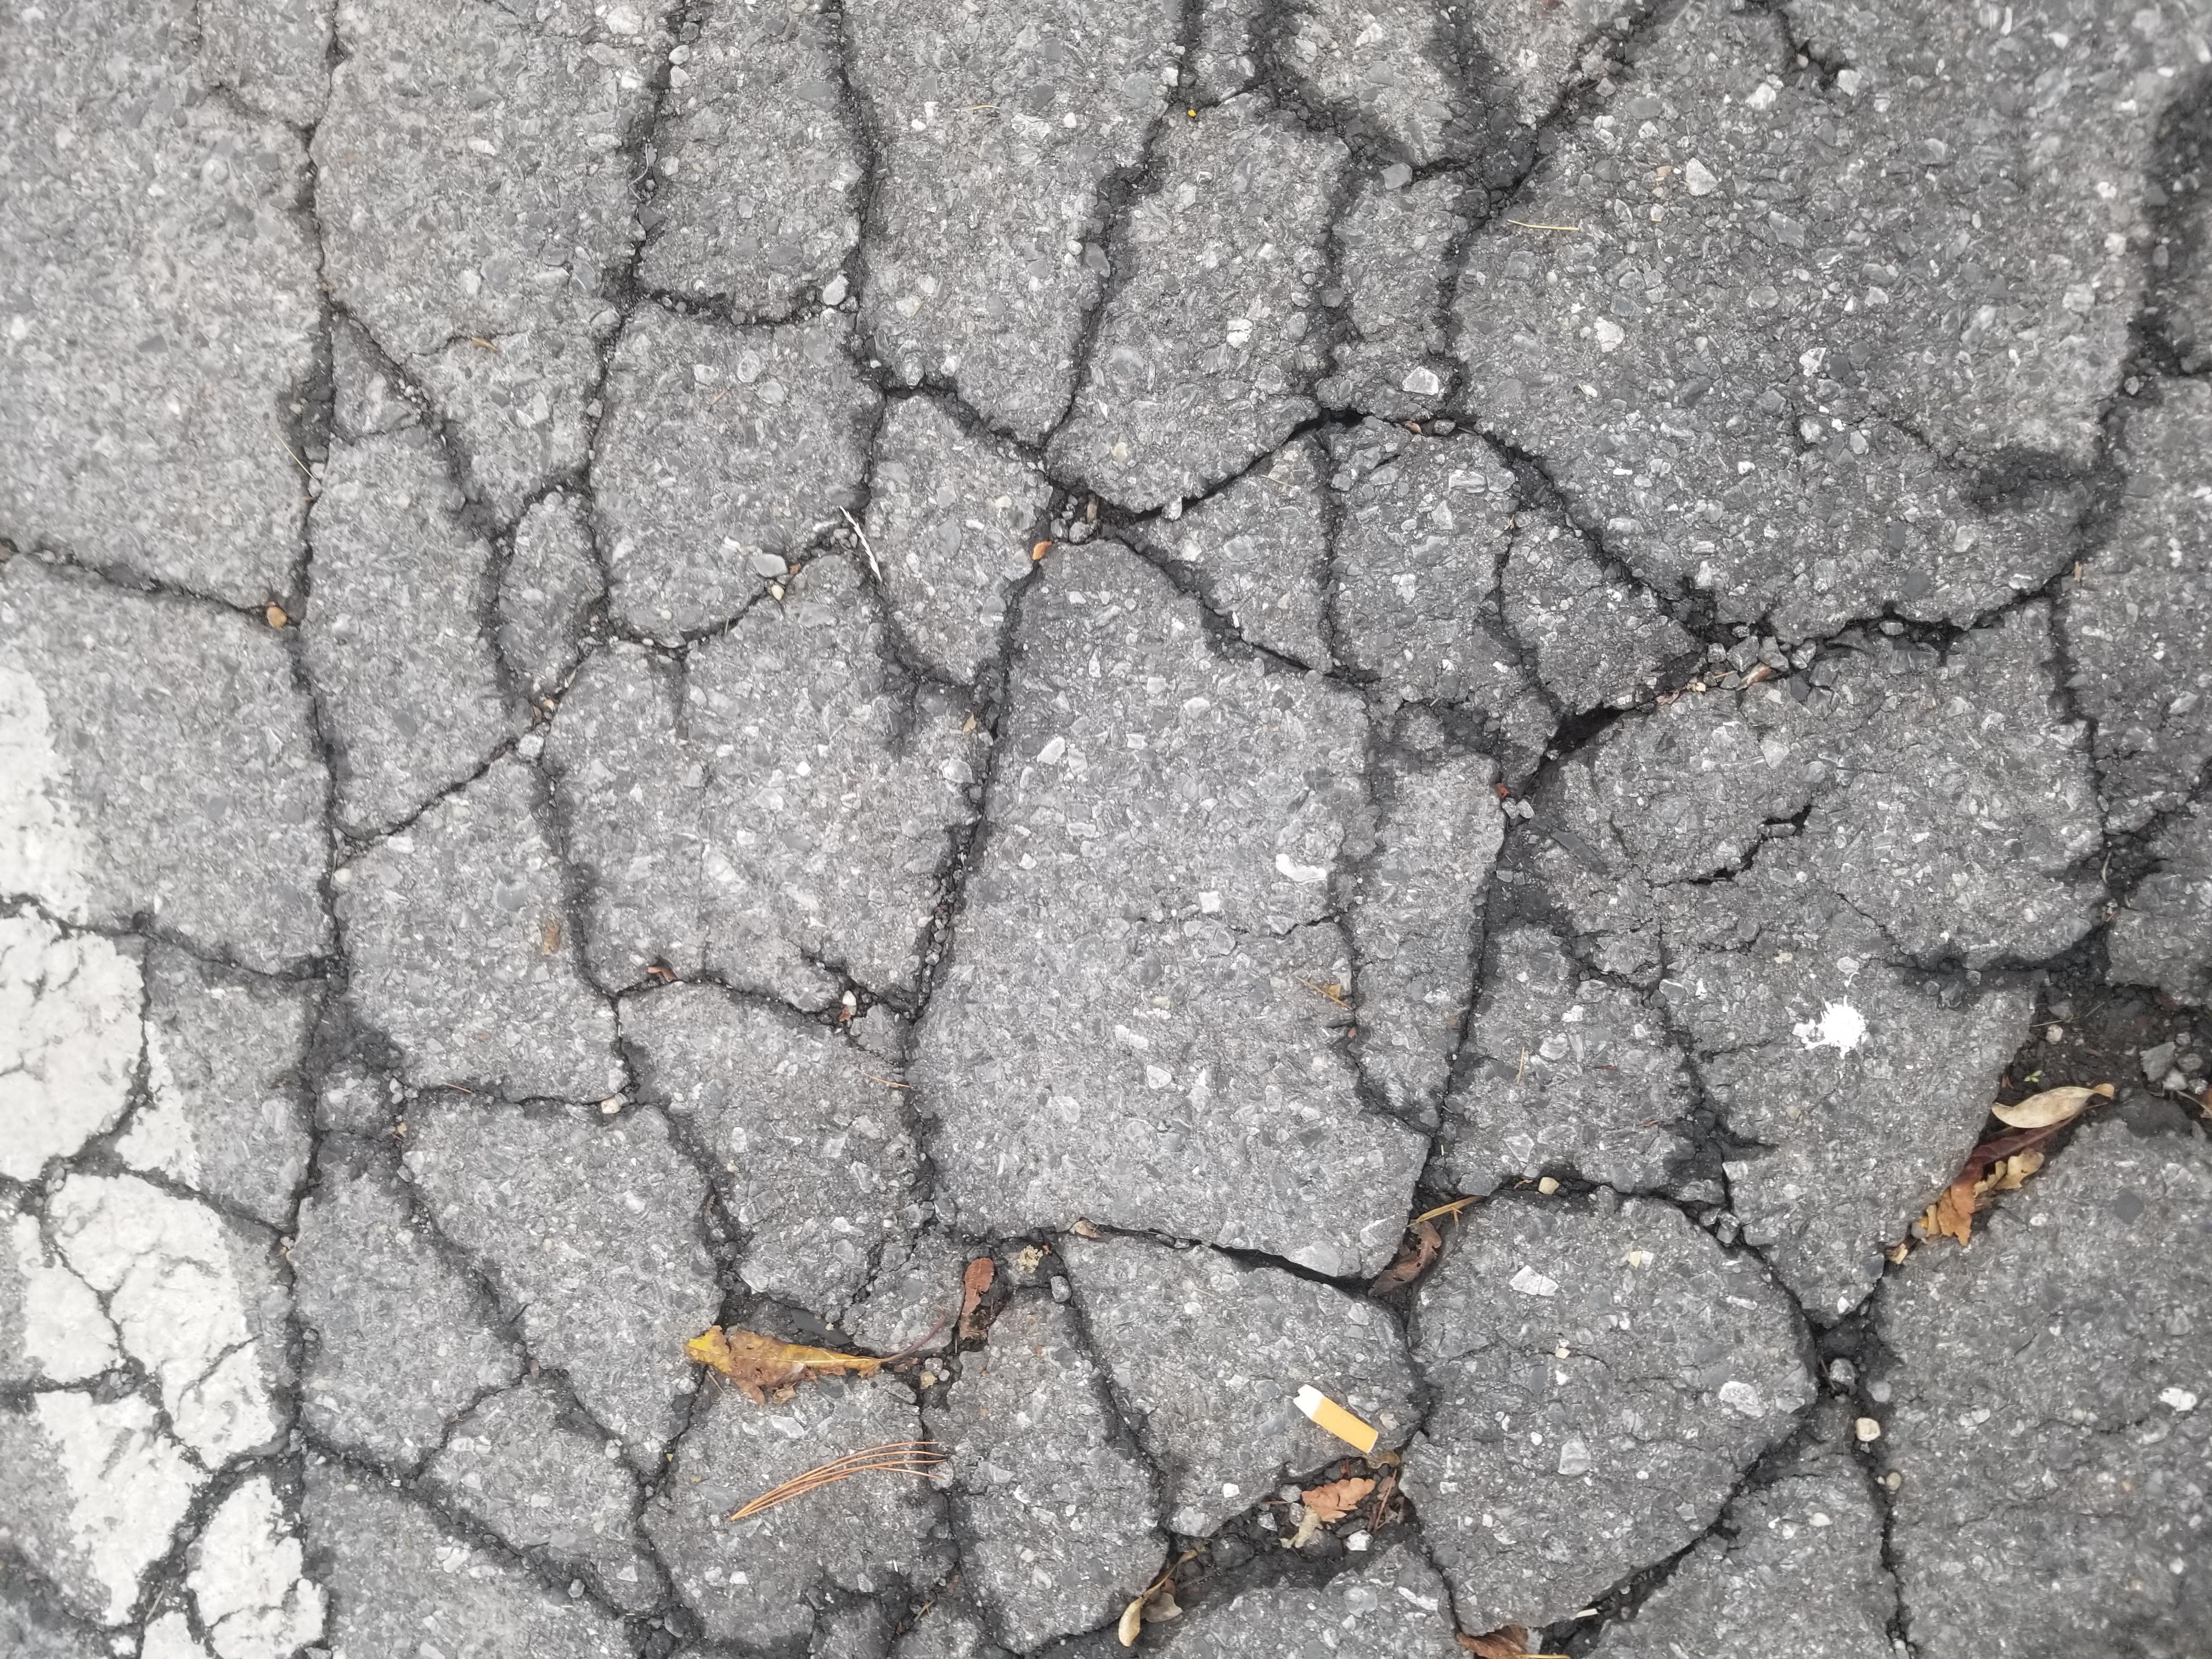alligator-crack: (23, 54, 2005, 1554)
